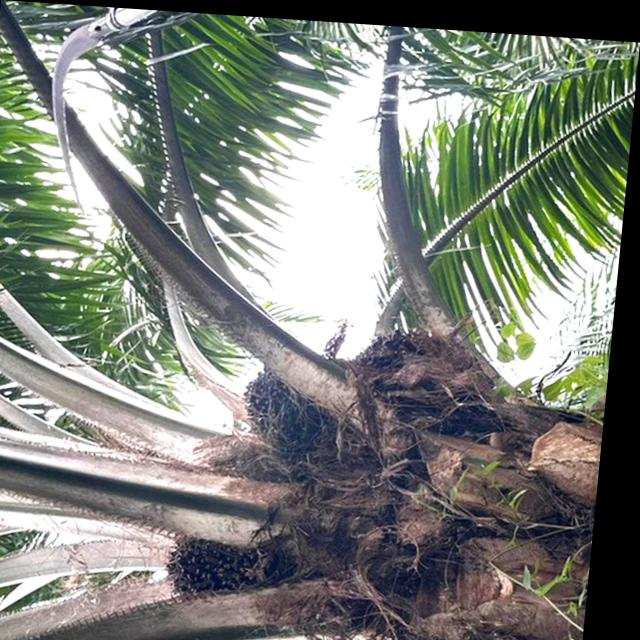unripe: (157, 507, 303, 616), (342, 303, 480, 415), (236, 349, 362, 465)
